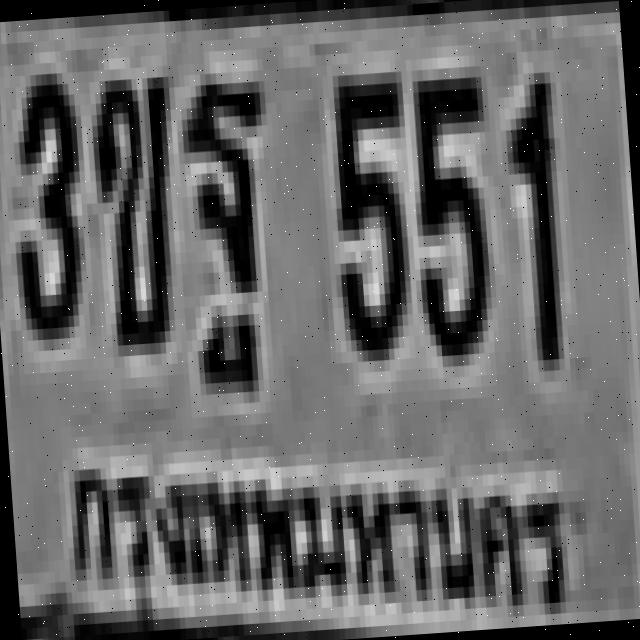1: (501, 61, 564, 361)
11KhorKhai: (82, 66, 181, 347)
25ThorThan: (174, 64, 274, 346)
3: (0, 61, 84, 330)
5: (400, 66, 494, 357), (320, 61, 414, 352)
Bangkok: (56, 412, 580, 640)
